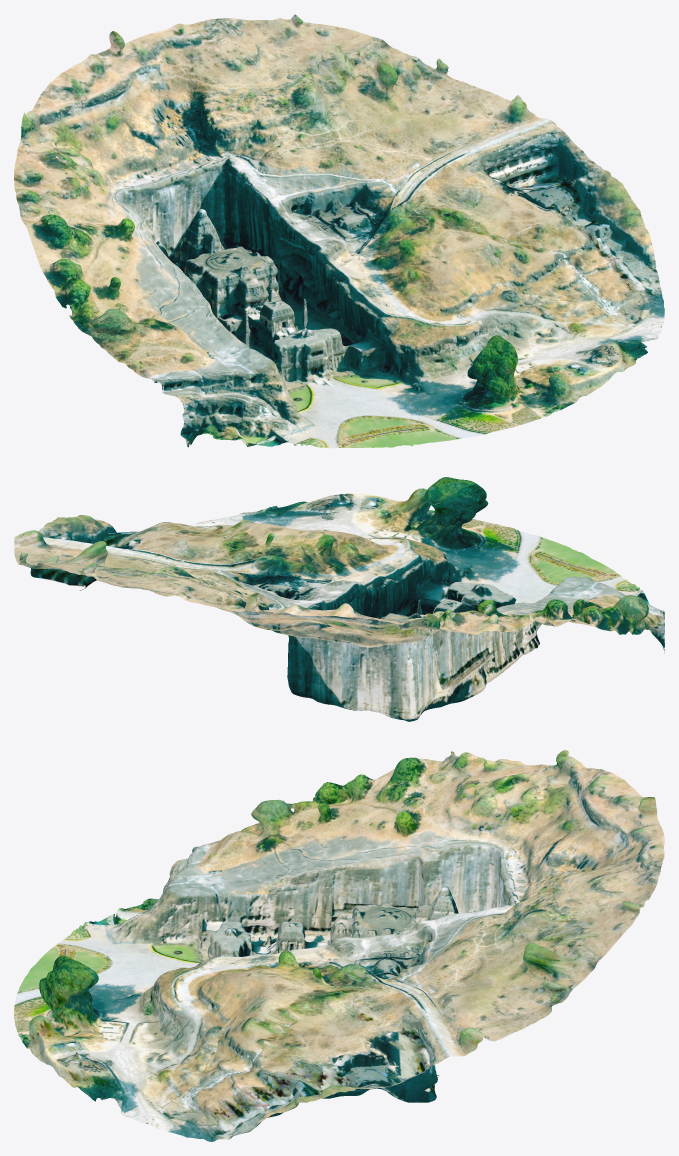
Rendered from kailasa-context.glb.
The picture shows the model from 3 angles, top to bottom: view 1: azimuth 30°, elevation 25°; view 2: azimuth 150°, elevation 25°; view 3: azimuth 270°, elevation 25°; orthographic projection.
Parts seen in each view (by area): view 1: Retopo_Model; view 2: Retopo_Model; view 3: Retopo_Model.
Boxes of the visible parts, x1,y1,x2,y2 form: Retopo_Model: (14,14,664,448); Retopo_Model: (14,477,664,721); Retopo_Model: (14,750,664,1141).
Size of the model in its own units: 2586 by 862 by 2584.
Materials: 1 (1 with a texture image).
